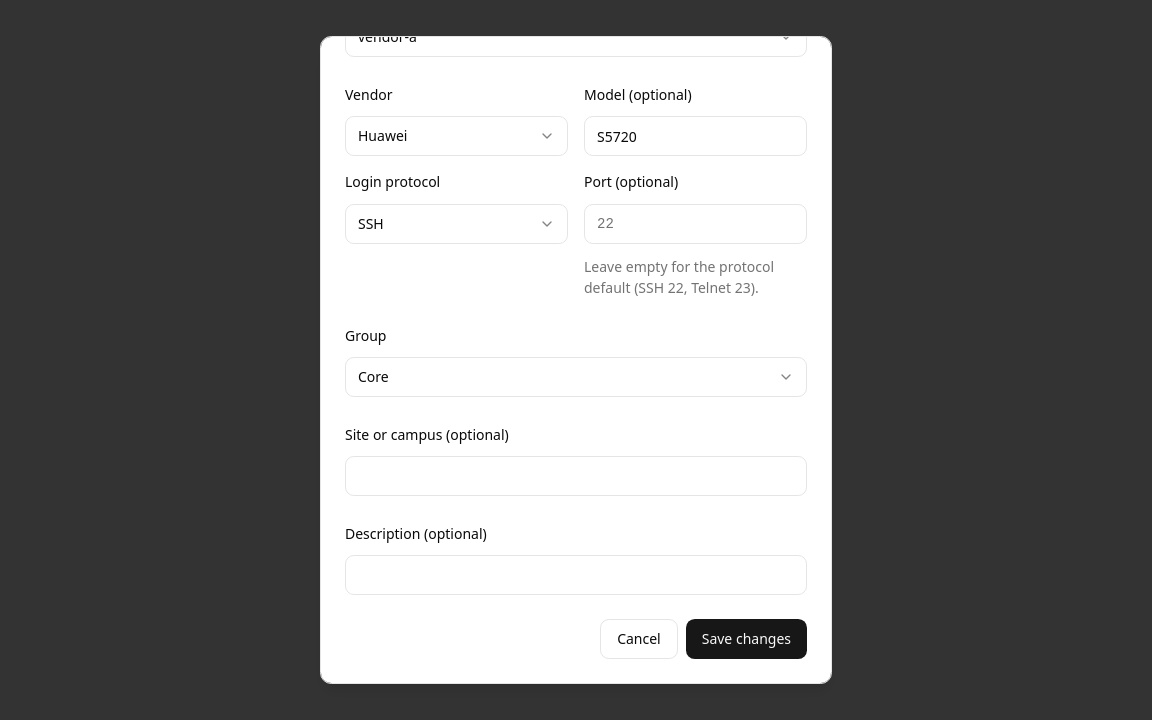
Scenario: asset editors › keeps the editor open with an actionable message when the asset changed elsewhere
(page scrolled)
Click the button "Save changes". click: (746, 639)
box: [686, 619, 807, 659]
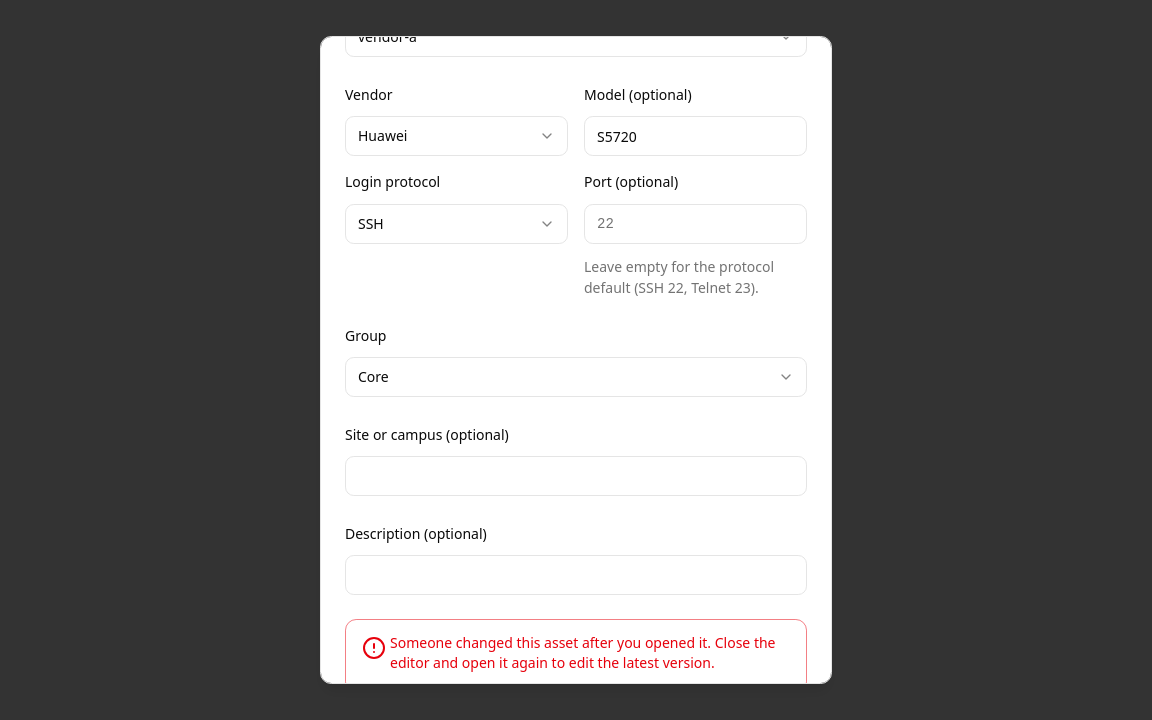
Expected: the dialog is shown, [320, 36, 832, 684]
Now the message shows "Close the editor and open it again", box [390, 633, 776, 672]
